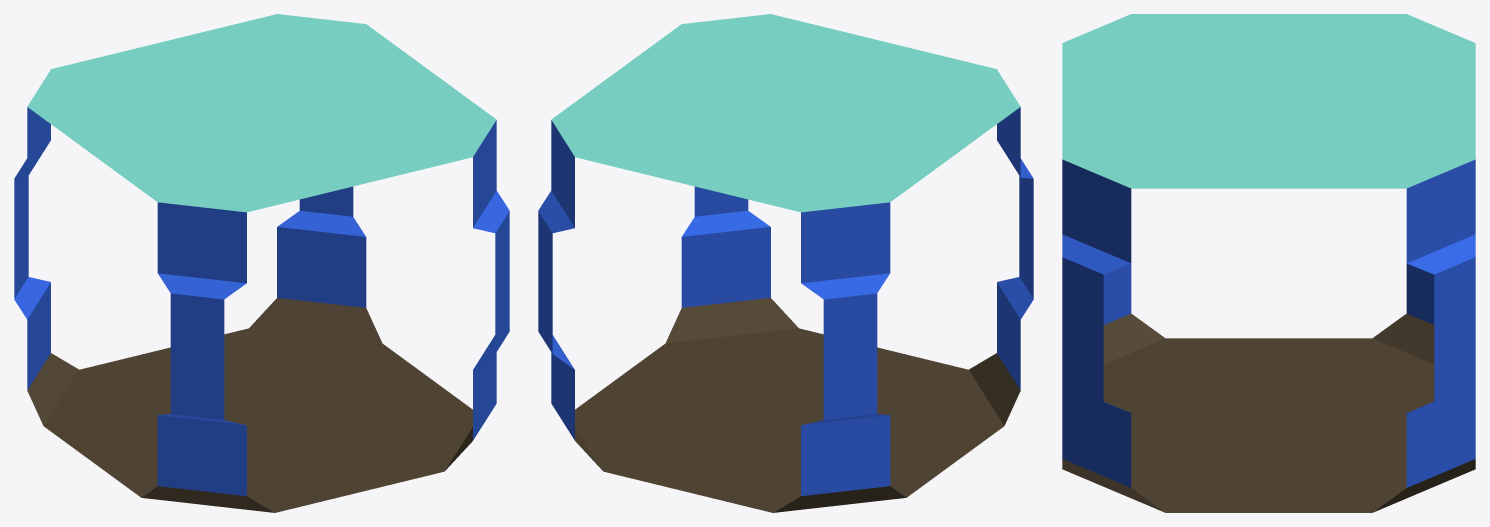
File: Cross_Roads.fbx
3 renders of one model, left to right at view 1: azimuth 30°, elevation 25°; view 2: azimuth 150°, elevation 25°; view 3: azimuth 270°, elevation 25°, orthographic. The views are drawn at different scales.
Visible parts, largest first — view 1: Cross_Roads; view 2: Cross_Roads; view 3: Cross_Roads.
Boxes of the visible parts, left/top/right/bottom form: Cross_Roads: left=14, top=14, right=509, bottom=512; Cross_Roads: left=538, top=14, right=1033, bottom=512; Cross_Roads: left=1062, top=14, right=1475, bottom=512.
Size of the model in its own units: 3 by 2.6 by 3.
